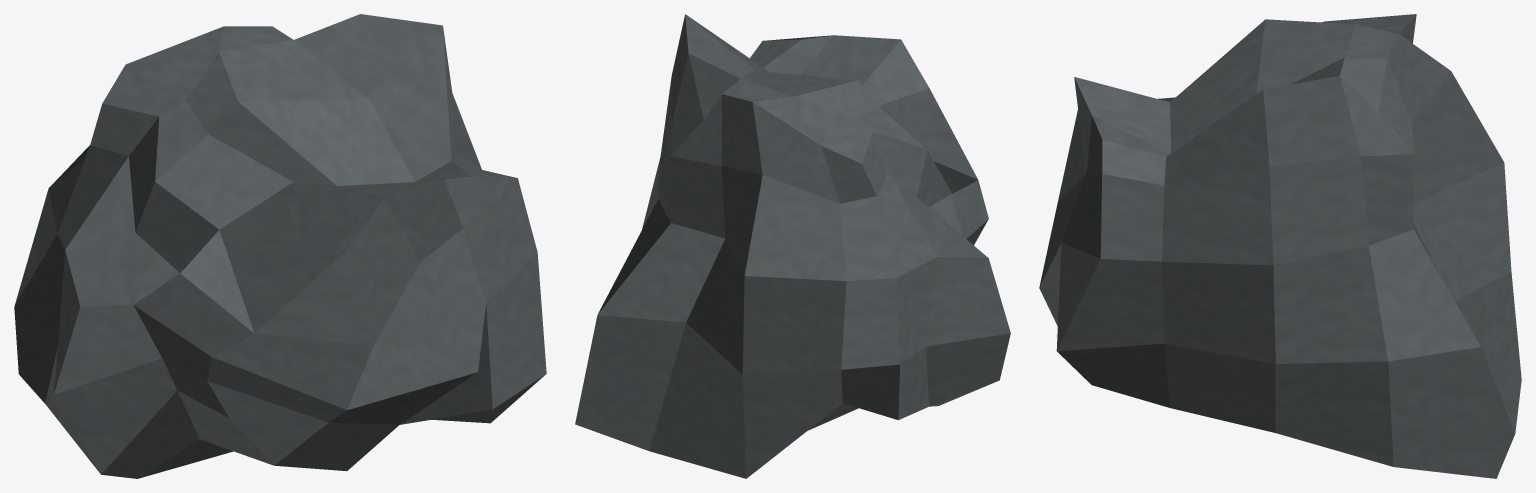
File: Mineral_Latao.fbx
The picture shows the model from 3 angles, left to right: view 1: azimuth 30°, elevation 25°; view 2: azimuth 150°, elevation 25°; view 3: azimuth 270°, elevation 25°; orthographic projection. The views are drawn at different scales.
Visible parts, largest first — view 1: Minerais; view 2: Minerais; view 3: Minerais.
Boxes of the visible parts, left/top/right/bottom form: Minerais: left=14, top=14, right=546, bottom=478; Minerais: left=575, top=14, right=1010, bottom=478; Minerais: left=1039, top=14, right=1521, bottom=478.
Bounding box in the file's own units: 20.14 × 18.73 × 21.15.
1 material, 1 textured.
